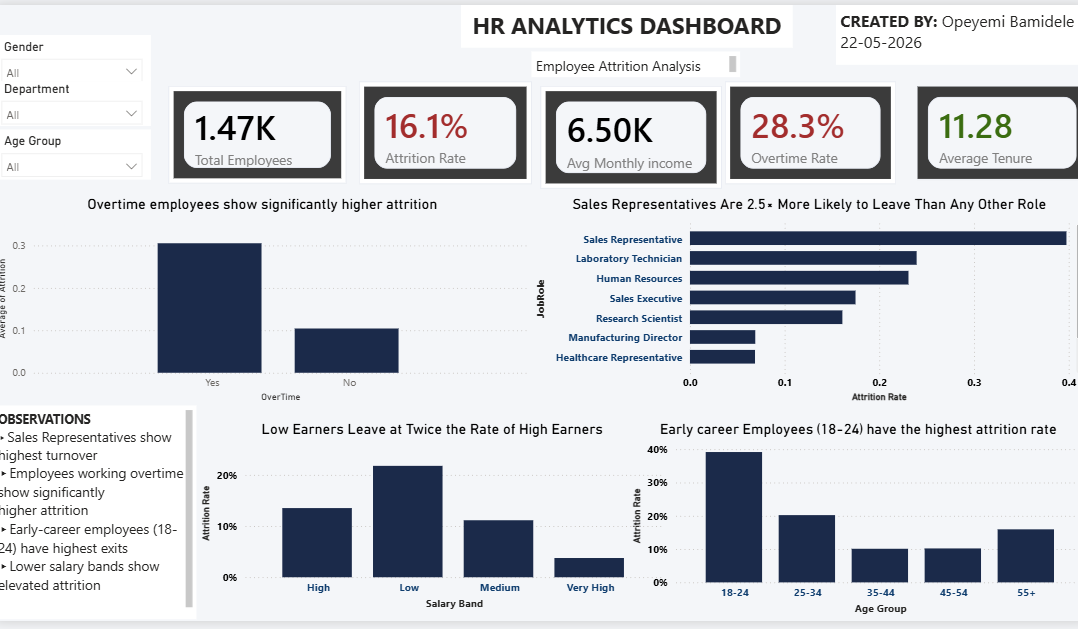

Layout of this report page (visuals, bound fields, positions):
{"tool":"powerbi","page":{"name":"Page 1","canvas":[1280,720],"ordinal":0},"visuals":[{"type":"cardVisual","fields":{"Data":["CountNonNull(cleaned_hr_data.EmployeeNumber)"]},"box":[206,94,208,114],"z":0},{"type":"cardVisual","fields":{"Data":["cleaned_hr_data.Attrition Rate","cleaned_hr_data.Attrition Rate"]},"box":[428,90,202,120],"z":1000},{"type":"cardVisual","fields":{"Data":["Avg(cleaned_hr_data.MonthlyIncome)"]},"box":[640,94,212,120],"z":2000},{"type":"clusteredBarChart","title":"Sales Representatives Are 2.5× More Likely to Leave Than Any Other Role","fields":{"Category":["cleaned_hr_data.JobRole"],"Y":["Avg(cleaned_hr_data.Attrition)"]},"box":[630,222,650,246],"z":3000},{"type":"clusteredColumnChart","title":"Overtime employees show significantly higher attrition","fields":{"Category":["cleaned_hr_data.OverTime"],"Y":["Avg(cleaned_hr_data.Attrition)"]},"box":[0,222,630,246],"z":4000},{"type":"cardVisual","fields":{"Data":["cleaned_hr_data.Overtime Rate"]},"box":[856,90,200,120],"z":5000},{"type":"cardVisual","fields":{"Data":["Avg(cleaned_hr_data.TotalWorkingYears)"]},"box":[1080,94,200,110],"z":6000},{"type":"columnChart","title":"Early career Employees (18-24) have the  highest attrition rate","fields":{"Category":["cleaned_hr_data.Age Group"],"Y":["cleaned_hr_data.Attrition Rate"]},"box":[742,486,540,232],"z":7000},{"type":"columnChart","title":"Low Earners Leave at Twice the Rate of High Earners","fields":{"Category":["cleaned_hr_data.Salary Band"],"Y":["cleaned_hr_data.Attrition Rate"]},"box":[238,486,550,226],"z":8000},{"type":"textbox","box":[548,0,388,50],"z":9000},{"type":"textbox","box":[0,468,238,250],"z":10000},{"type":"slicer","fields":{"Values":["cleaned_hr_data.Department"]},"box":[0,84.3,184.5,57.3],"z":11000},{"type":"slicer","fields":{"Values":["cleaned_hr_data.Age Group"]},"box":[0,144.7,184.5,58.9],"z":12000},{"type":"slicer","fields":{"Values":["cleaned_hr_data.Gender"]},"box":[0,35,184.5,54.1],"z":13000},{"type":"textbox","box":[630,54,244,30],"z":14000},{"type":"textbox","box":[986,0,294,70],"z":15000}]}

Visuals, with their boxes on the page's 1280x720 design canvas (x1, y1, x2, y2). These are canvas units, not pixel positions in the 1078x629 screenshot, which may show the page scaled, cropped or inside an application window:
cardVisual - CountNonNull(cleaned_hr_data.EmployeeNumber): (206, 94, 414, 208)
cardVisual - cleaned_hr_data.Attrition Rate x cleaned_hr_data.Attrition Rate: (428, 90, 630, 210)
cardVisual - Avg(cleaned_hr_data.MonthlyIncome): (640, 94, 852, 214)
"Sales Representatives Are 2.5× More Likely to Leave Than Any Other Role" clusteredBarChart: (630, 222, 1280, 468)
"Overtime employees show significantly higher attrition" clusteredColumnChart: (0, 222, 630, 468)
cardVisual - cleaned_hr_data.Overtime Rate: (856, 90, 1056, 210)
cardVisual - Avg(cleaned_hr_data.TotalWorkingYears): (1080, 94, 1280, 204)
"Early career Employees (18-24) have the  highest attrition rate" columnChart: (742, 486, 1282, 718)
"Low Earners Leave at Twice the Rate of High Earners" columnChart: (238, 486, 788, 712)
textbox: (548, 0, 936, 50)
textbox: (0, 468, 238, 718)
slicer - cleaned_hr_data.Department: (0, 84, 184, 142)
slicer - cleaned_hr_data.Age Group: (0, 145, 184, 204)
slicer - cleaned_hr_data.Gender: (0, 35, 184, 89)
textbox: (630, 54, 874, 84)
textbox: (986, 0, 1280, 70)
